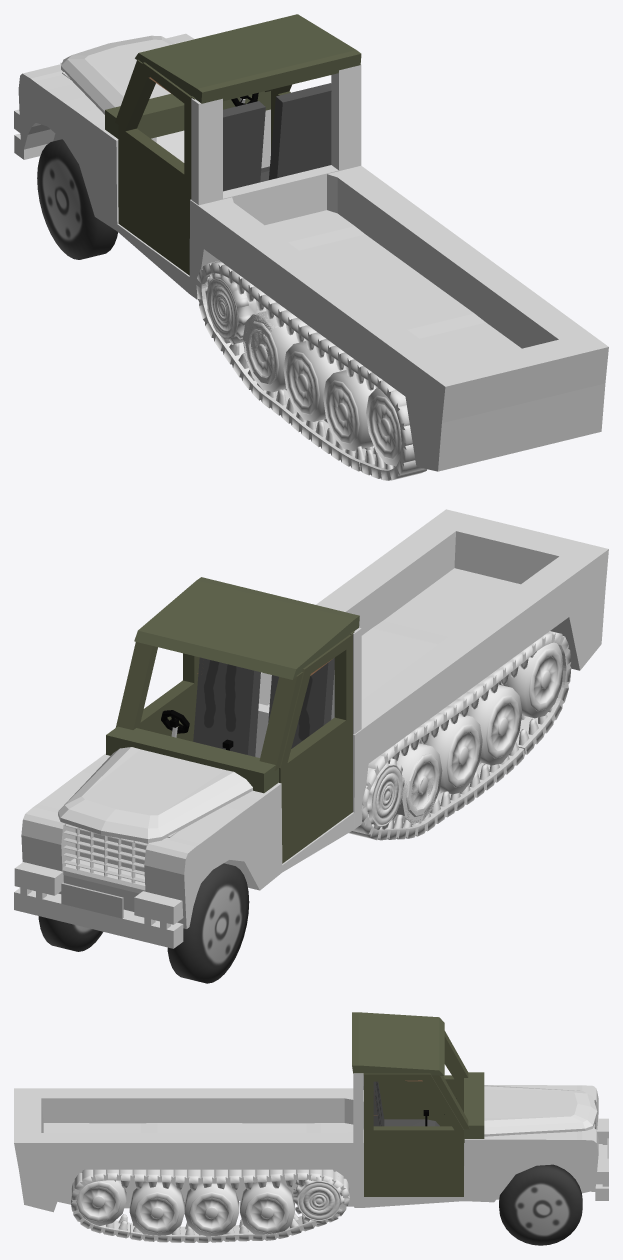
Rendered from landrover centuar.fbx.
3 views of the same model, one above another, from view 1: azimuth 30°, elevation 25°; view 2: azimuth 150°, elevation 25°; view 3: azimuth 270°, elevation 25° (orthographic). The views are drawn at different scales.
Visible parts, largest first — view 1: Cube.008, Cube.009, mesh_id11, Cube.010, Cube.002, trackleft, Cylinder.001, mesh_id115, Cube.011, mesh_id33, Cylinder.010, Cylinder.009 (+5 smaller); view 2: Cube.008, mesh_id11, Cube.011, Cube.009, Cube.002, trackleft, Cylinder.001, mesh_id115, mesh_id67, mesh_id19, Cylinder.009, Cylinder.010 (+14 smaller); view 3: Cube.008, Cube.007, trackright, mesh_id11, Cylinder.004, Cube.011, Cube.009, Cube.002, Cylinder.011, Cylinder.012, Cylinder.013, Cylinder.015 (+8 smaller).
Boxes of the visible parts, box(x1,y1,x2,y2) form: Cube.008: box(18, 33, 608, 471); Cube.009: box(53, 72, 521, 364); mesh_id11: box(135, 14, 361, 103); Cube.010: box(191, 64, 361, 225); Cube.002: box(118, 62, 191, 275); trackleft: box(196, 260, 426, 480); Cylinder.001: box(37, 139, 117, 259); mesh_id115: box(260, 83, 331, 182); Cube.011: box(61, 35, 175, 114); mesh_id33: box(223, 101, 265, 191); Cylinder.010: box(323, 370, 375, 450); Cylinder.009: box(283, 341, 346, 421); Cube.008: box(21, 509, 608, 928); mesh_id11: box(134, 577, 359, 679); Cube.011: box(58, 747, 252, 842); Cube.009: box(58, 568, 520, 911); Cube.002: box(279, 634, 352, 863); trackleft: box(348, 631, 571, 840); Cylinder.001: box(167, 863, 249, 983); mesh_id115: box(193, 657, 260, 756); mesh_id67: box(106, 726, 278, 793); mesh_id19: box(14, 888, 183, 948); Cylinder.009: box(419, 713, 482, 794); Cylinder.010: box(459, 684, 522, 765); Cube.008: box(14, 1085, 598, 1212); Cube.007: box(364, 1073, 463, 1196); trackright: box(71, 1169, 349, 1242); mesh_id11: box(352, 1012, 444, 1075); Cylinder.004: box(499, 1164, 582, 1245); Cube.011: box(484, 1085, 597, 1136); Cube.009: box(43, 1123, 596, 1208); Cube.002: box(378, 1053, 463, 1126); Cylinder.011: box(129, 1181, 184, 1235); Cylinder.012: box(184, 1183, 239, 1236); Cylinder.013: box(240, 1181, 294, 1234); Cylinder.015: box(71, 1180, 126, 1225).
Bounding box in the file's own units: 14.32 × 21.82 × 64.68.
